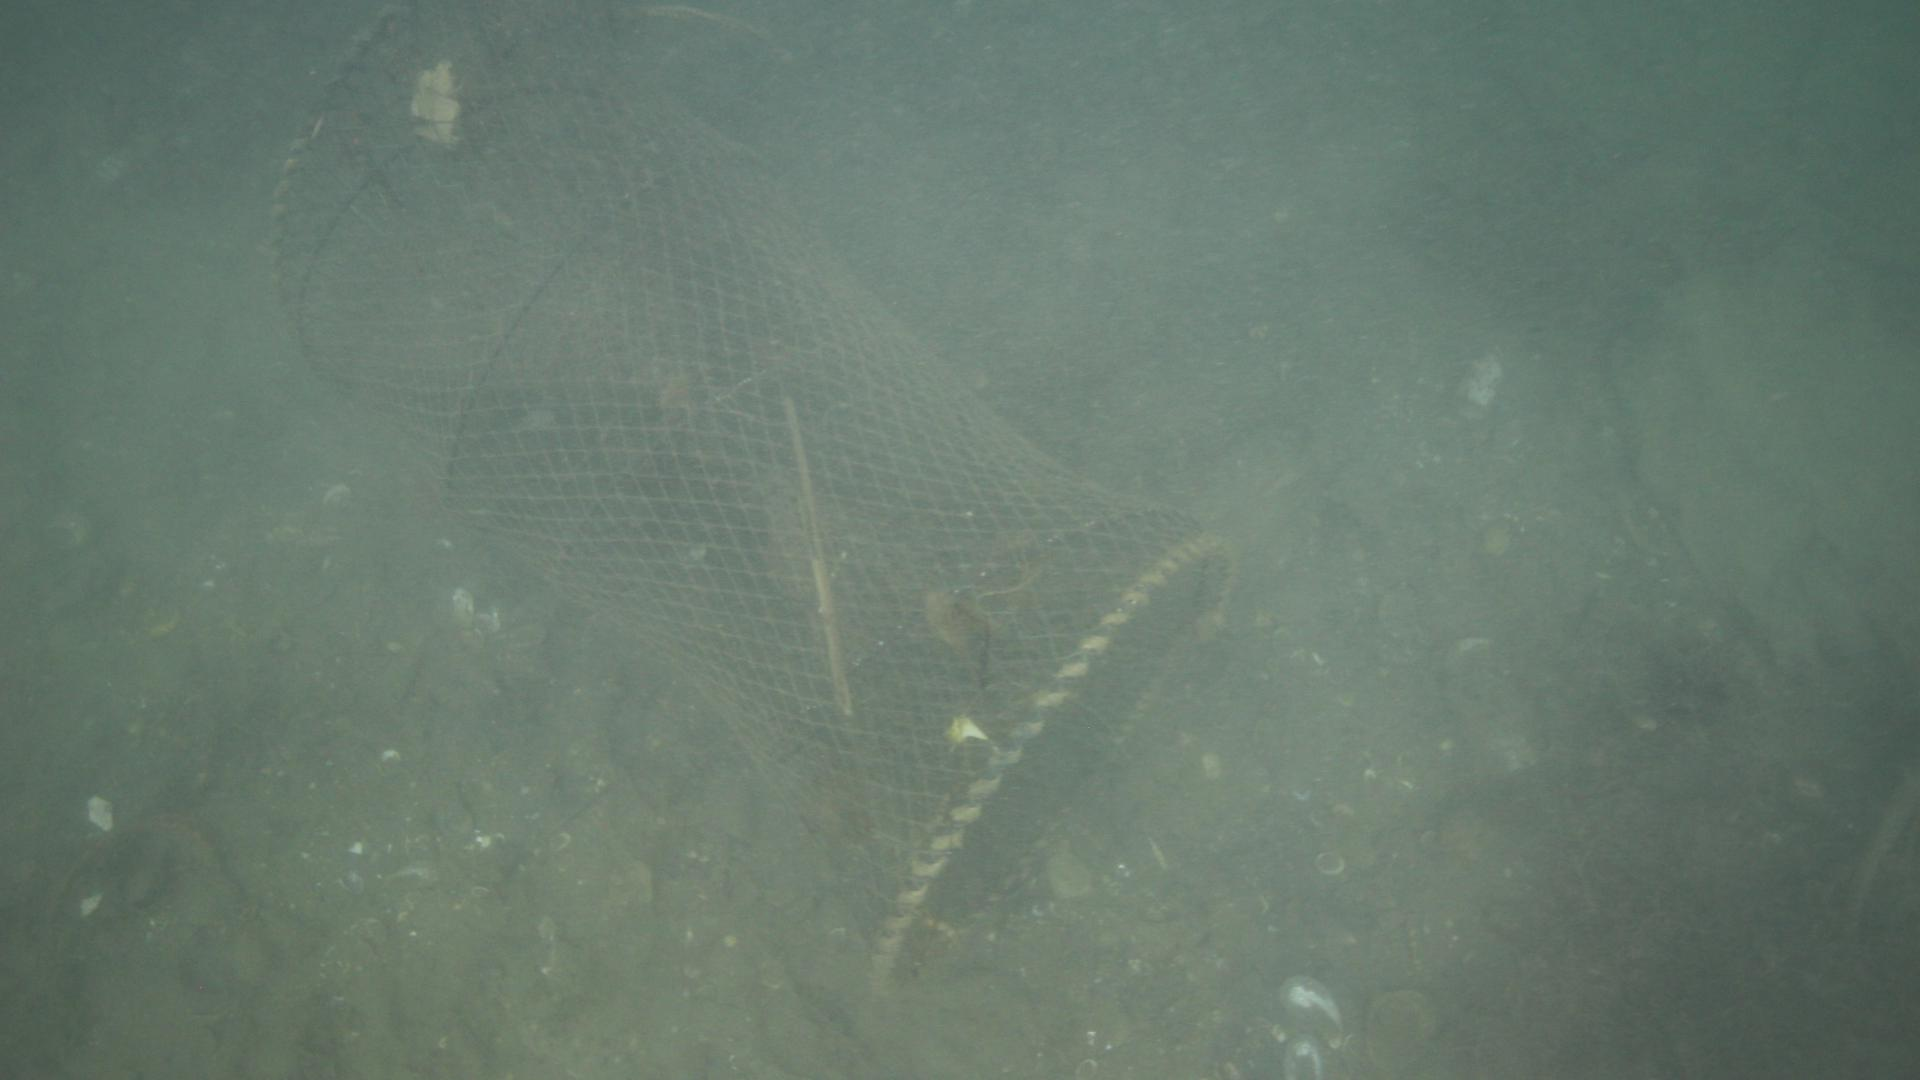spring fish trap: (269, 0, 1229, 980)
